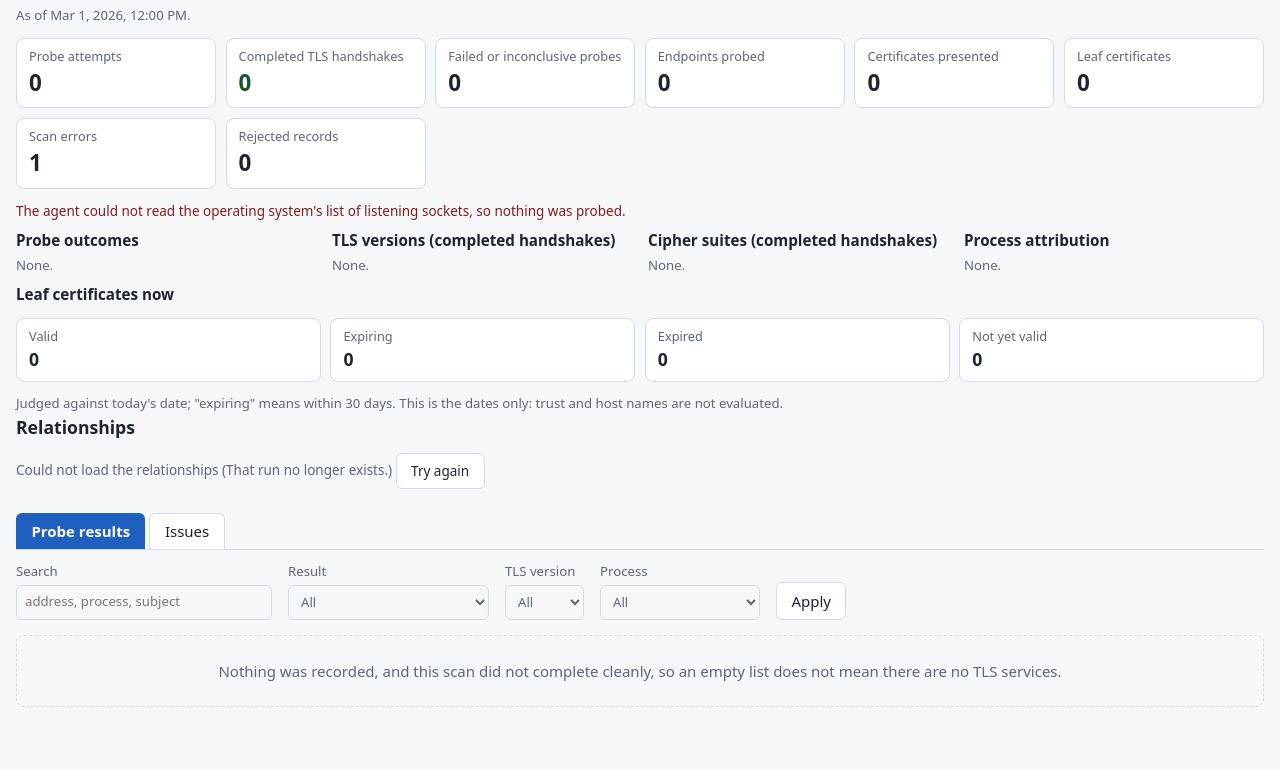
Test: a real scan whose enumeration failed › lists the enumeration error in the issues tab
(page scrolled)
Click the tab "Issues" at [187, 531], box [150,512,225,549]
(page scrolled)
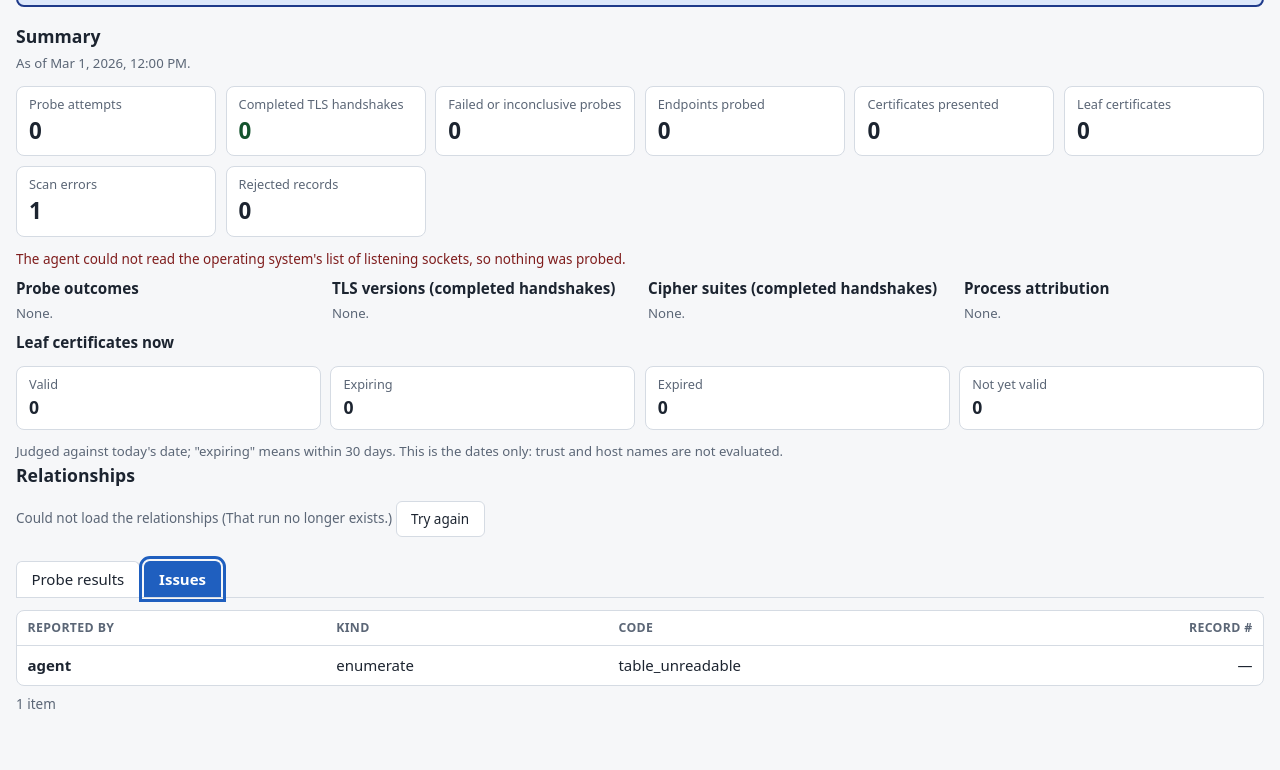
Now the text "table_unreadable" is shown, box [608,646,1021,685]
Now the text "enumerate" is shown, box [326,646,608,685]
